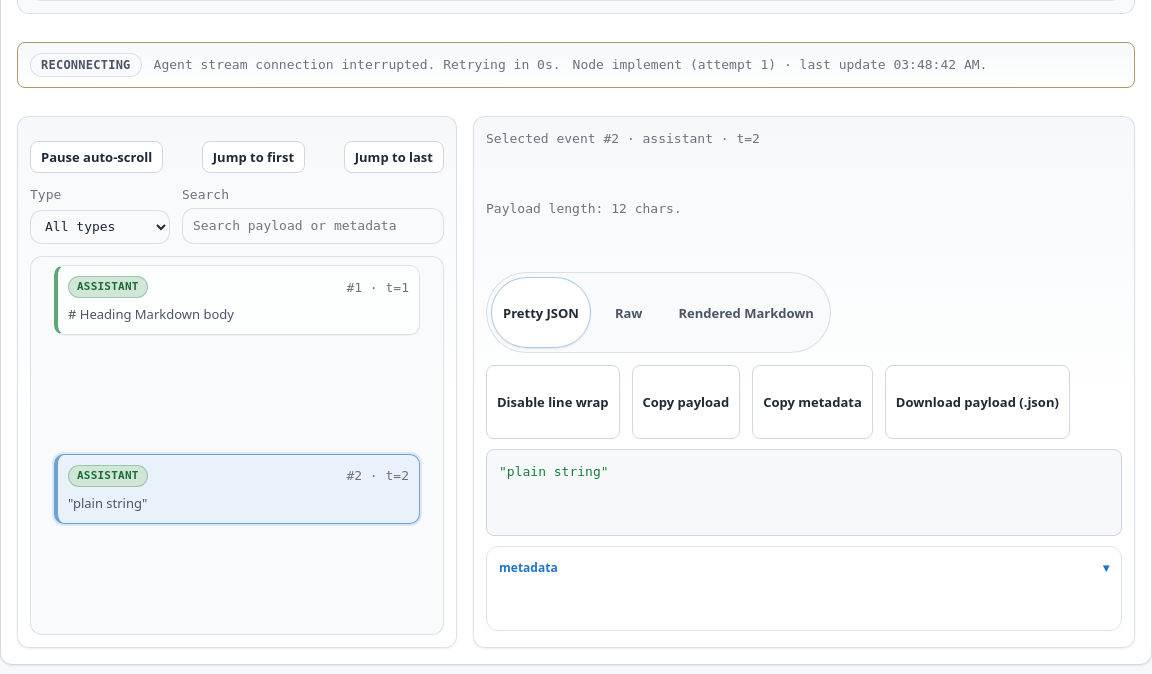
Scenario: RunDetailContent realtime updates › falls back from markdown mode when selecting a non-markdown JSON string payload
The width and height of the screenshot is (1152, 674).
(page scrolled)
Check: the text "\"plain string\"" below "Type" is shown, box [68,494,147,512]
Click the text "# Heading Markdown body" at (151, 314), box [68,305,234,323]
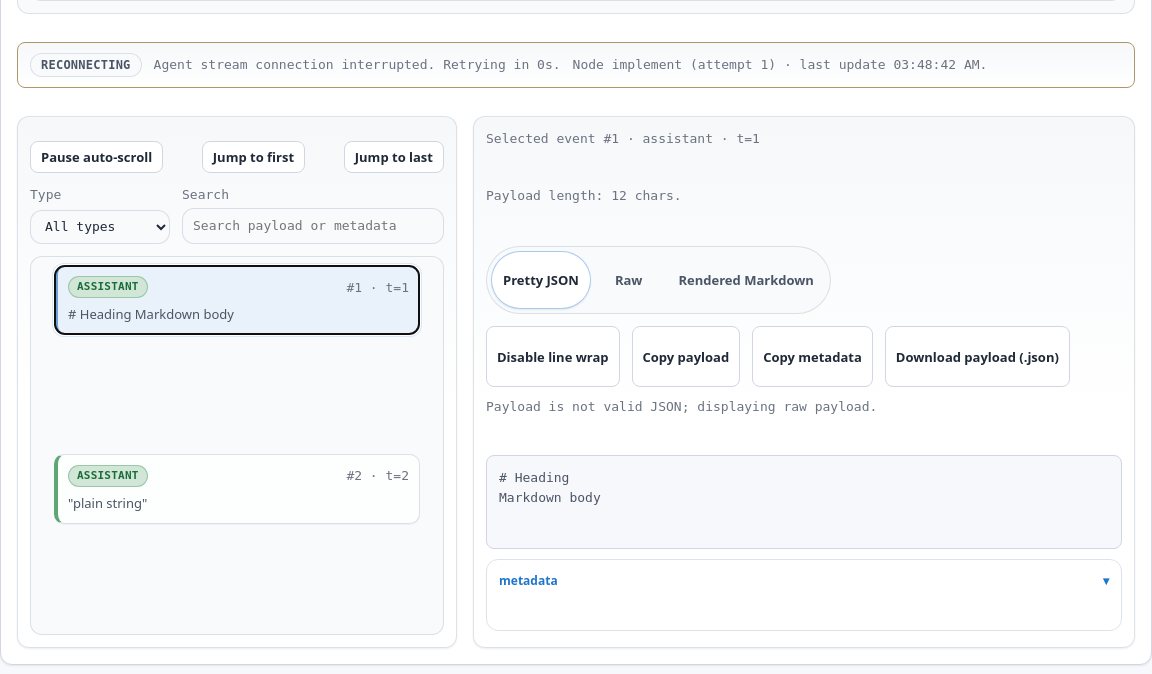
Click the tab "Rendered Markdown" at (746, 280), box [666,251,826,310]
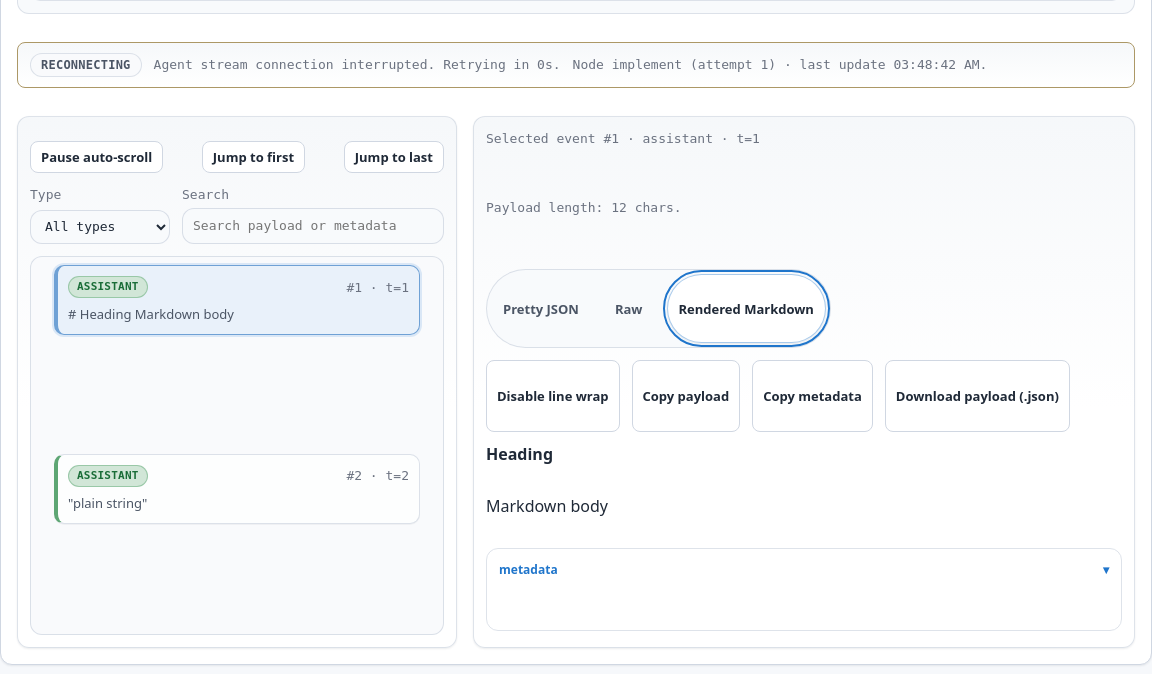
Click the text "\"plain string\"" at (108, 503), box [68,494,147,512]
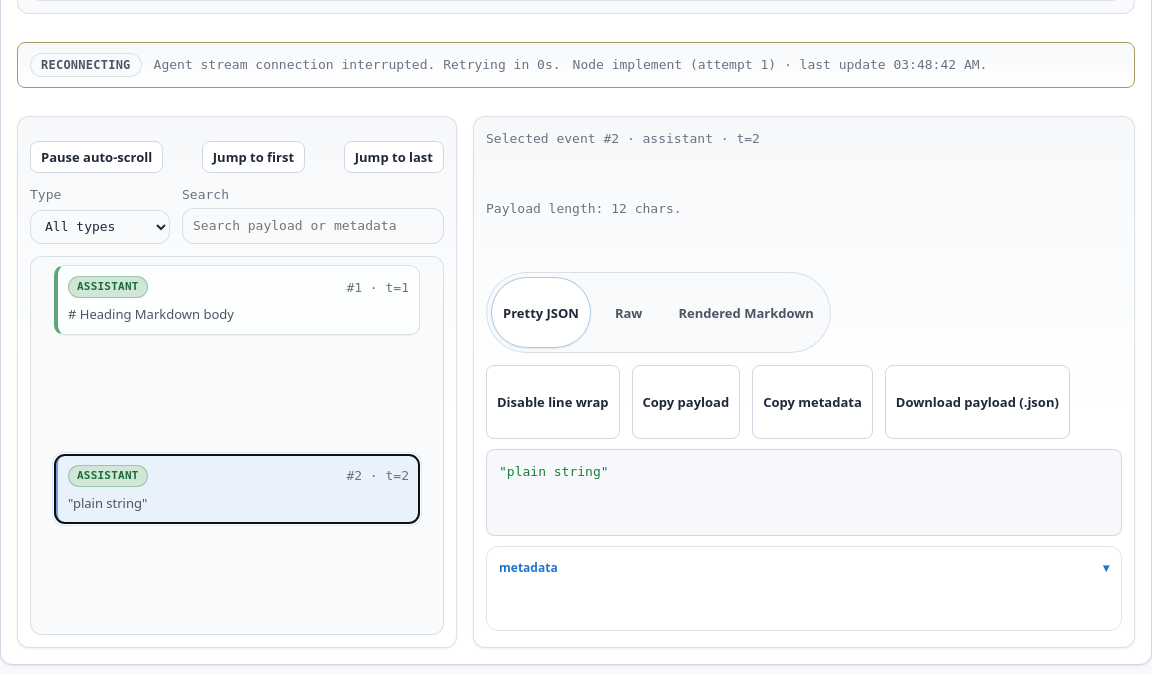
Check: the text with class "run-agent-inspector-token--string" reads "\"plain string\"", box [499,464,609,479]
Check: the tab "Rendered Markdown" is disabled, box [666,277,826,348]
